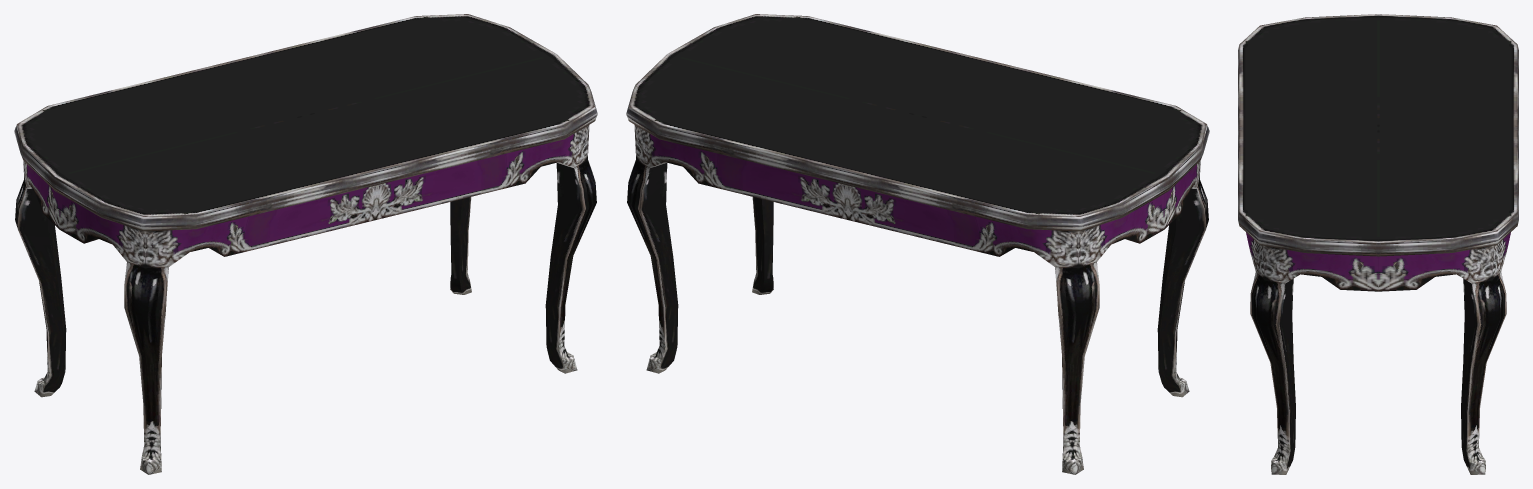
File: furni_0201212_02.FBX
The picture shows the model from 3 angles, left to right: view 1: azimuth 30°, elevation 25°; view 2: azimuth 150°, elevation 25°; view 3: azimuth 270°, elevation 25°; orthographic projection. The views are drawn at different scales.
Parts seen in each view (by area): view 1: furni_0201212_02; view 2: furni_0201212_02; view 3: furni_0201212_02.
Boxes of the visible parts, x1,y1,x2,y2 form: furni_0201212_02: (14, 14, 597, 474); furni_0201212_02: (626, 14, 1209, 474); furni_0201212_02: (1238, 14, 1518, 474).
Size of the model in its own units: 157 by 78.76 by 80.8.
